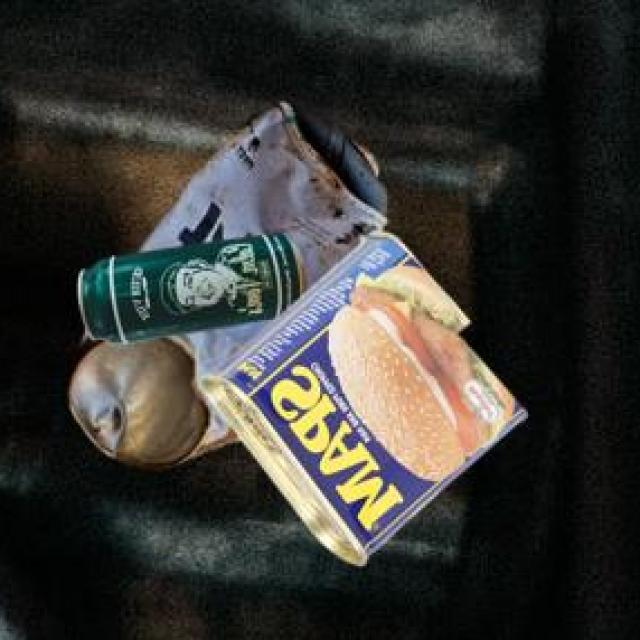logam: (66, 106, 384, 471), (198, 234, 523, 570), (75, 236, 303, 348)
